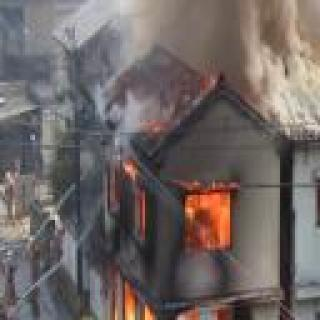smoke: (112, 4, 312, 94)
